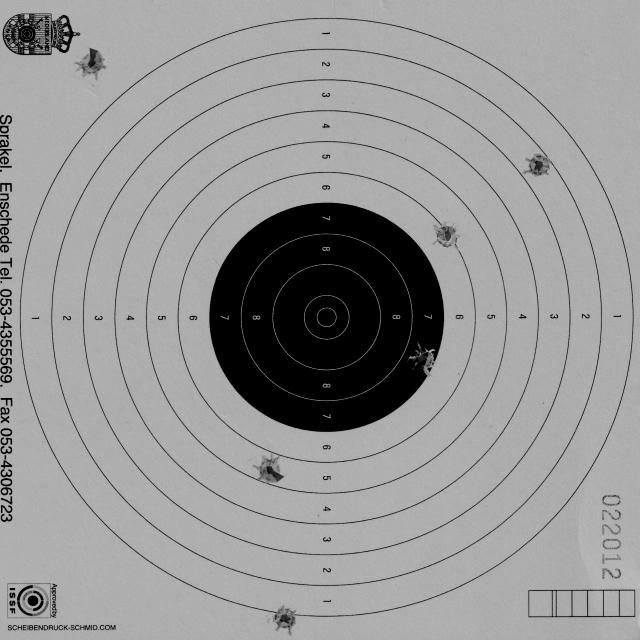1: (267, 605, 297, 637)
2: (73, 49, 107, 81), (521, 152, 553, 178)
5: (251, 452, 285, 484)
6: (431, 221, 462, 251)
7: (405, 339, 437, 377)
Target: (17, 15, 635, 621)
black_contour: (208, 202, 444, 432)
